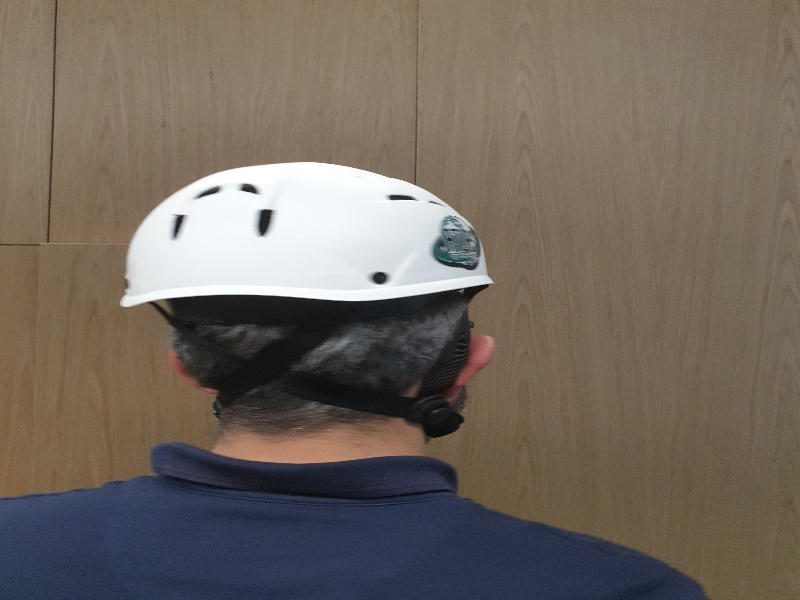Baret: (128, 161, 493, 296)
